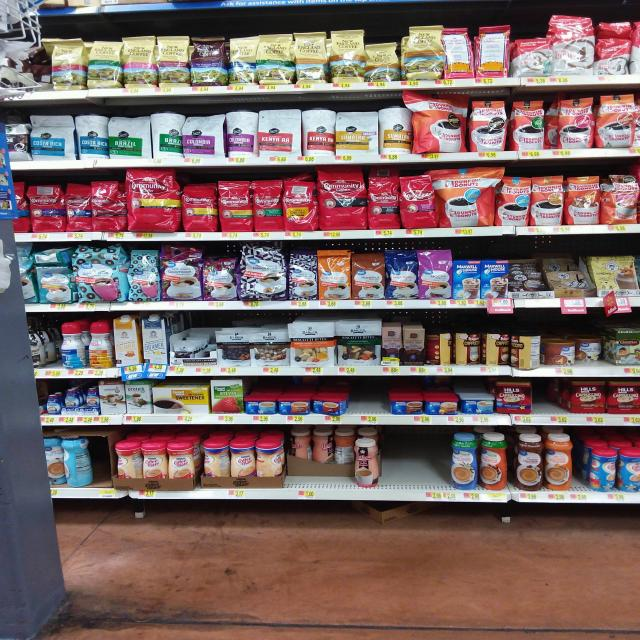void: (413, 428, 442, 504), (384, 426, 408, 503), (354, 376, 387, 430), (93, 429, 114, 501), (535, 377, 565, 427)
